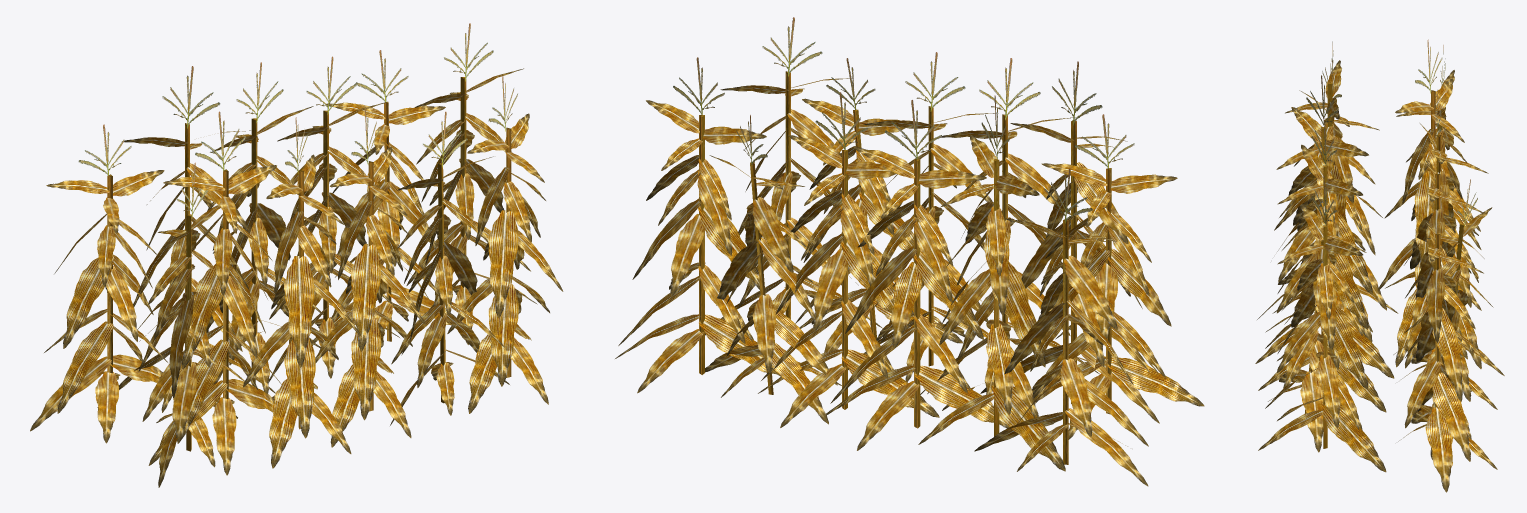
The model's file is Cornfield.fbx.
The picture shows the model from 3 angles, left to right: view 1: azimuth 30°, elevation 25°; view 2: azimuth 150°, elevation 25°; view 3: azimuth 270°, elevation 25°; orthographic projection. The views are drawn at different scales.
Visible parts, largest first — view 1: polySurface13; view 2: polySurface13; view 3: polySurface13.
Boxes of the visible parts, bbox=[...] form: polySurface13: bbox=[30, 23, 563, 487]; polySurface13: bbox=[615, 17, 1204, 486]; polySurface13: bbox=[1255, 39, 1504, 492].
Bounding box in the file's own units: 485 × 310 × 242.
Materials: 1 (1 with a texture image).
